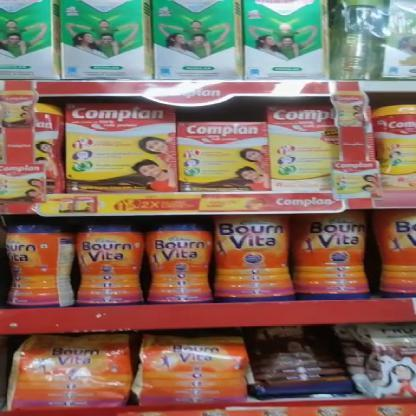Complan Kesar Badam: (268, 108, 337, 192)
Complan Royal Chocolate: (66, 105, 176, 190), (180, 123, 268, 190)
